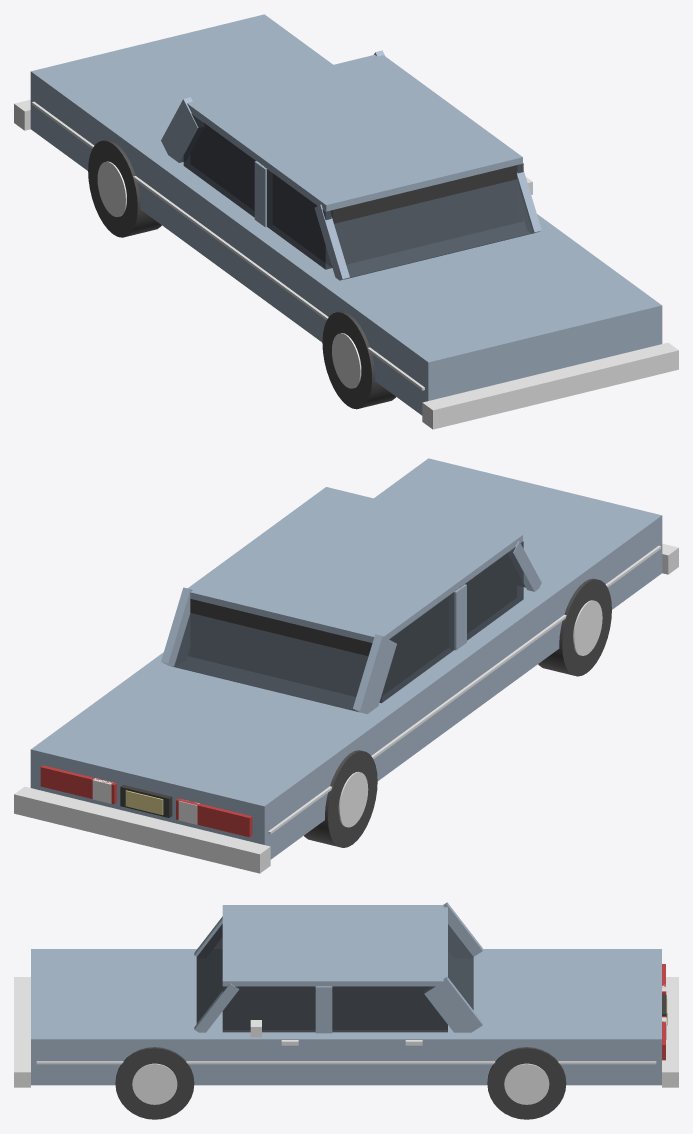
File: car_full.gltf
3 views of the same model, one above another, from view 1: azimuth 30°, elevation 25°; view 2: azimuth 150°, elevation 25°; view 3: azimuth 270°, elevation 25° (orthographic). The views are drawn at different scales.
Parts seen in each view (by area): view 1: lower_body, roof, windshield_front, bumper_front, window_side_r, tire_rr, tire_fr, cabin_interior, side_trim_r, pillar_c_r, hubcap_fr, hubcap_rr (+2 smaller); view 2: lower_body, roof, windshield_rear, bumper_rear, window_side_r, tire_fr, tire_rr, cabin_interior, pillar_c_r, side_trim_r, taillight_block_r, taillight_block_l (+7 smaller); view 3: lower_body, roof, window_side_l, tire_fl, tire_rl, side_trim_l, bumper_front, windshield_front, pillar_c_l, bumper_rear, hubcap_fl, hubcap_rl (+4 smaller).
Part boxes in pixels (box(x1,y1,x2,y2)): lower_body: box(30, 14, 662, 415); roof: box(187, 54, 522, 211); windshield_front: box(334, 179, 535, 279); bumper_front: box(422, 342, 678, 429); window_side_r: box(183, 113, 331, 269); tire_rr: box(88, 140, 161, 237); tire_fr: box(322, 311, 395, 409); cabin_interior: box(331, 165, 516, 267); side_trim_r: box(32, 101, 424, 390); pillar_c_r: box(161, 97, 198, 162); hubcap_fr: box(332, 333, 361, 388); hubcap_rr: box(97, 161, 126, 216); lower_body: box(30, 458, 662, 859); roof: box(188, 487, 522, 642); windshield_rear: box(171, 613, 368, 711); bumper_rear: box(14, 786, 270, 873); window_side_r: box(379, 541, 523, 703); tire_fr: box(538, 578, 611, 676); tire_rr: box(304, 750, 377, 847); cabin_interior: box(190, 599, 372, 656); pillar_c_r: box(353, 634, 396, 714); side_trim_r: box(268, 545, 660, 834); taillight_block_r: box(176, 798, 252, 837); taillight_block_l: box(40, 765, 116, 804); lower_body: box(31, 949, 661, 1085); roof: box(222, 905, 447, 986); window_side_l: box(222, 986, 447, 1032); tire_fl: box(115, 1047, 194, 1119); tire_rl: box(487, 1047, 566, 1119); side_trim_l: box(36, 1061, 656, 1064); bumper_front: box(14, 977, 30, 1087); windshield_front: box(196, 924, 222, 1023); pillar_c_l: box(424, 976, 482, 1032); bumper_rear: box(662, 977, 678, 1087); hubcap_fl: box(132, 1063, 177, 1104); hubcap_rl: box(504, 1063, 549, 1104).
Size of the model in its own units: 2.03 by 1.3 by 5.9.
